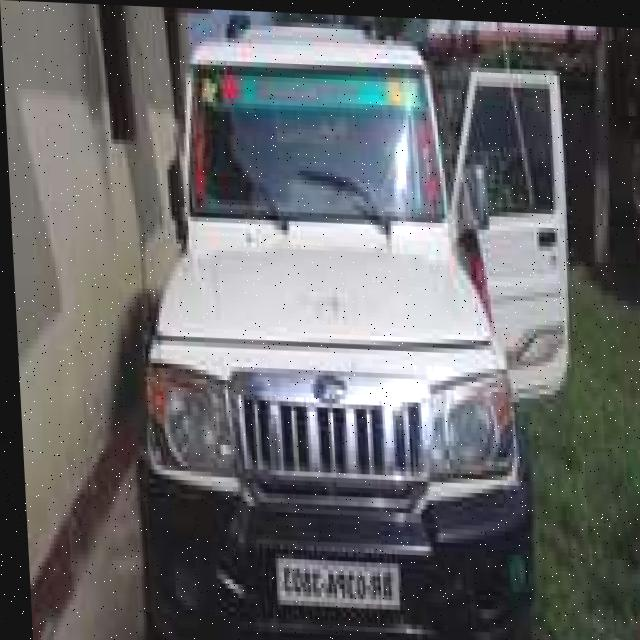plate: (269, 556, 396, 603)
